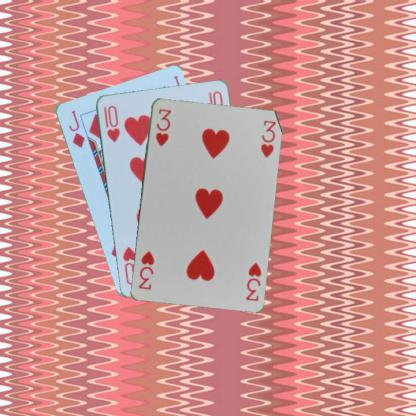10h: (100, 102, 121, 144)
3h: (243, 260, 263, 302), (153, 107, 172, 148)
Jd: (65, 107, 86, 149)
